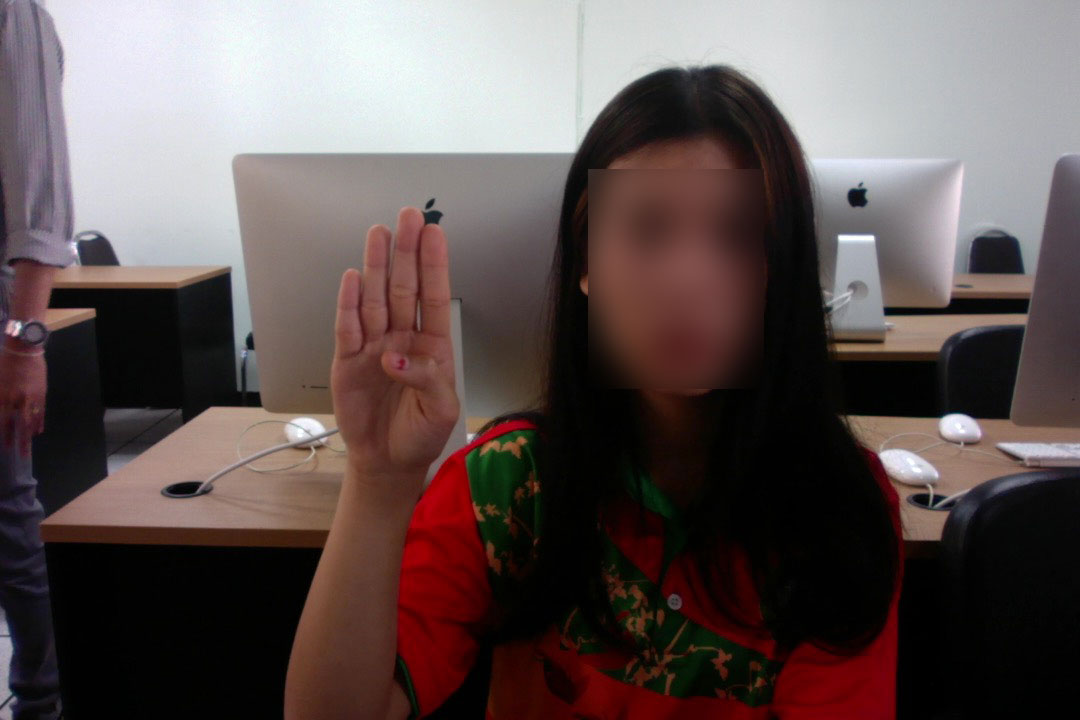bor: (325, 202, 466, 491)
